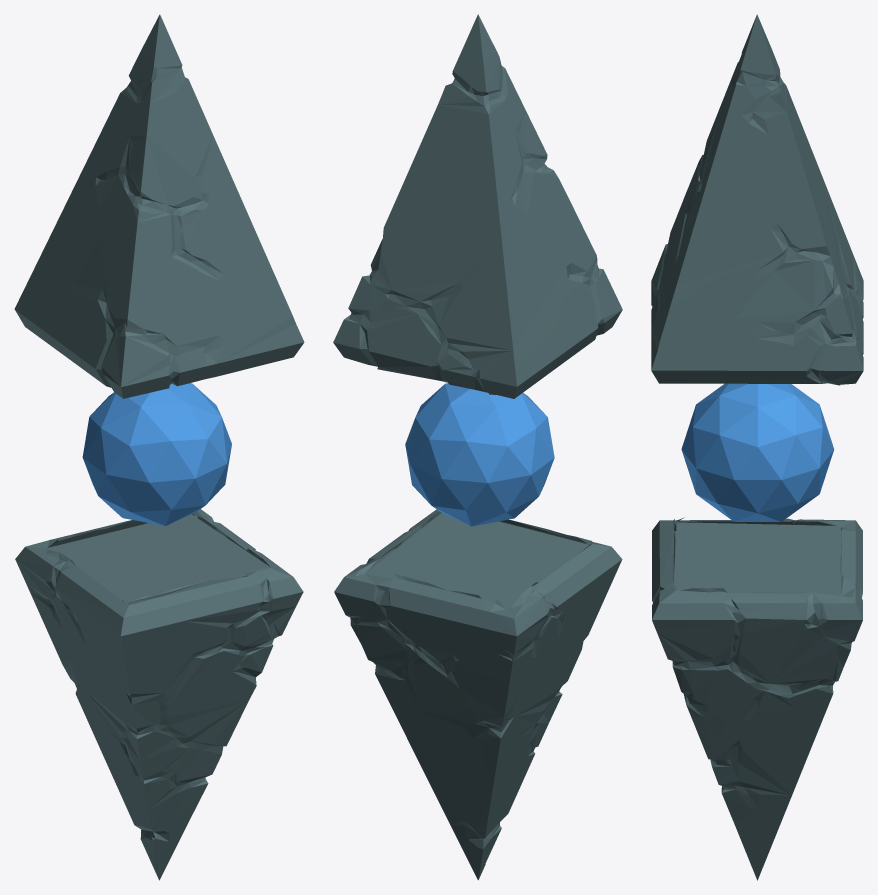
File: OBELISK.fbx
3 views of the same model, side by side, from view 1: azimuth 30°, elevation 25°; view 2: azimuth 150°, elevation 25°; view 3: azimuth 270°, elevation 25° (orthographic).
Visible parts, largest first — view 1: ObeliskTop, ObeliskBottom, Icosphere; view 2: ObeliskTop, ObeliskBottom, Icosphere; view 3: ObeliskTop, ObeliskBottom, Icosphere.
Part boxes in pixels (left/top/right/bottom): ObeliskTop: left=14, top=14, right=304, bottom=398; ObeliskBottom: left=15, top=509, right=303, bottom=880; Icosphere: left=82, top=383, right=231, bottom=525; ObeliskTop: left=333, top=14, right=622, bottom=398; ObeliskBottom: left=334, top=509, right=622, bottom=880; Icosphere: left=405, top=383, right=554, bottom=526; ObeliskTop: left=651, top=14, right=863, bottom=385; ObeliskBottom: left=652, top=517, right=862, bottom=880; Icosphere: left=681, top=383, right=834, bottom=521.
Size of the model in its own units: 278 by 1252 by 278.
